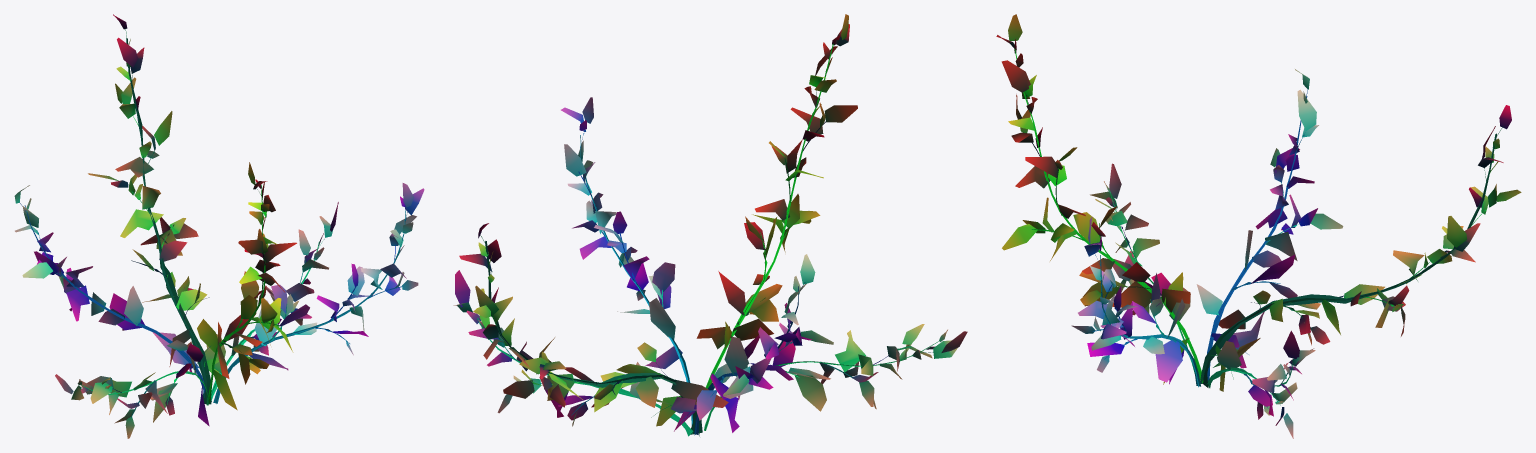
Rendered from Creeping_Saltbush_thckfiqr_Mid_thckfiqr_VarA_LOD0.fbx.
The picture shows the model from 3 angles, left to right: view 1: azimuth 30°, elevation 25°; view 2: azimuth 150°, elevation 25°; view 3: azimuth 270°, elevation 25°; orthographic projection. The views are drawn at different scales.
Parts seen in each view (by area): view 1: _5c4c_VarA_LOD1; view 2: _5c4c_VarA_LOD1; view 3: _5c4c_VarA_LOD1.
Part boxes in pixels (<box>): _5c4c_VarA_LOD1: <box>14,14,424,438</box>; _5c4c_VarA_LOD1: <box>453,14,967,436</box>; _5c4c_VarA_LOD1: <box>996,14,1521,438</box>.
Size of the model in its own units: 62.1 by 52.47 by 70.41.
